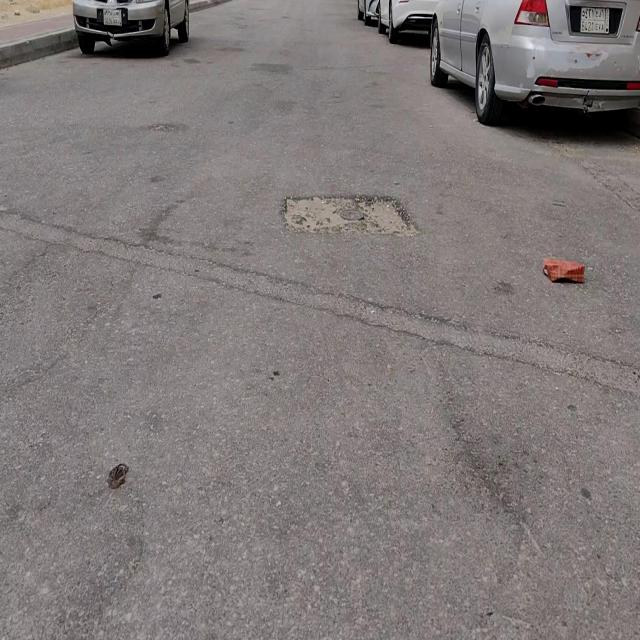Potholes: (282, 194, 408, 235)
